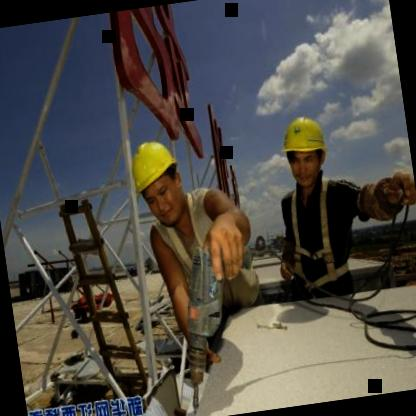helmet: (124, 129, 192, 228), (272, 106, 334, 191)
